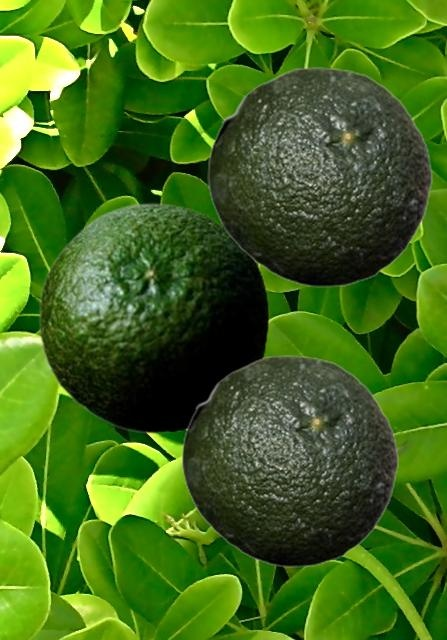calamansi: (38, 202, 268, 433), (207, 67, 432, 286), (181, 355, 398, 566)
